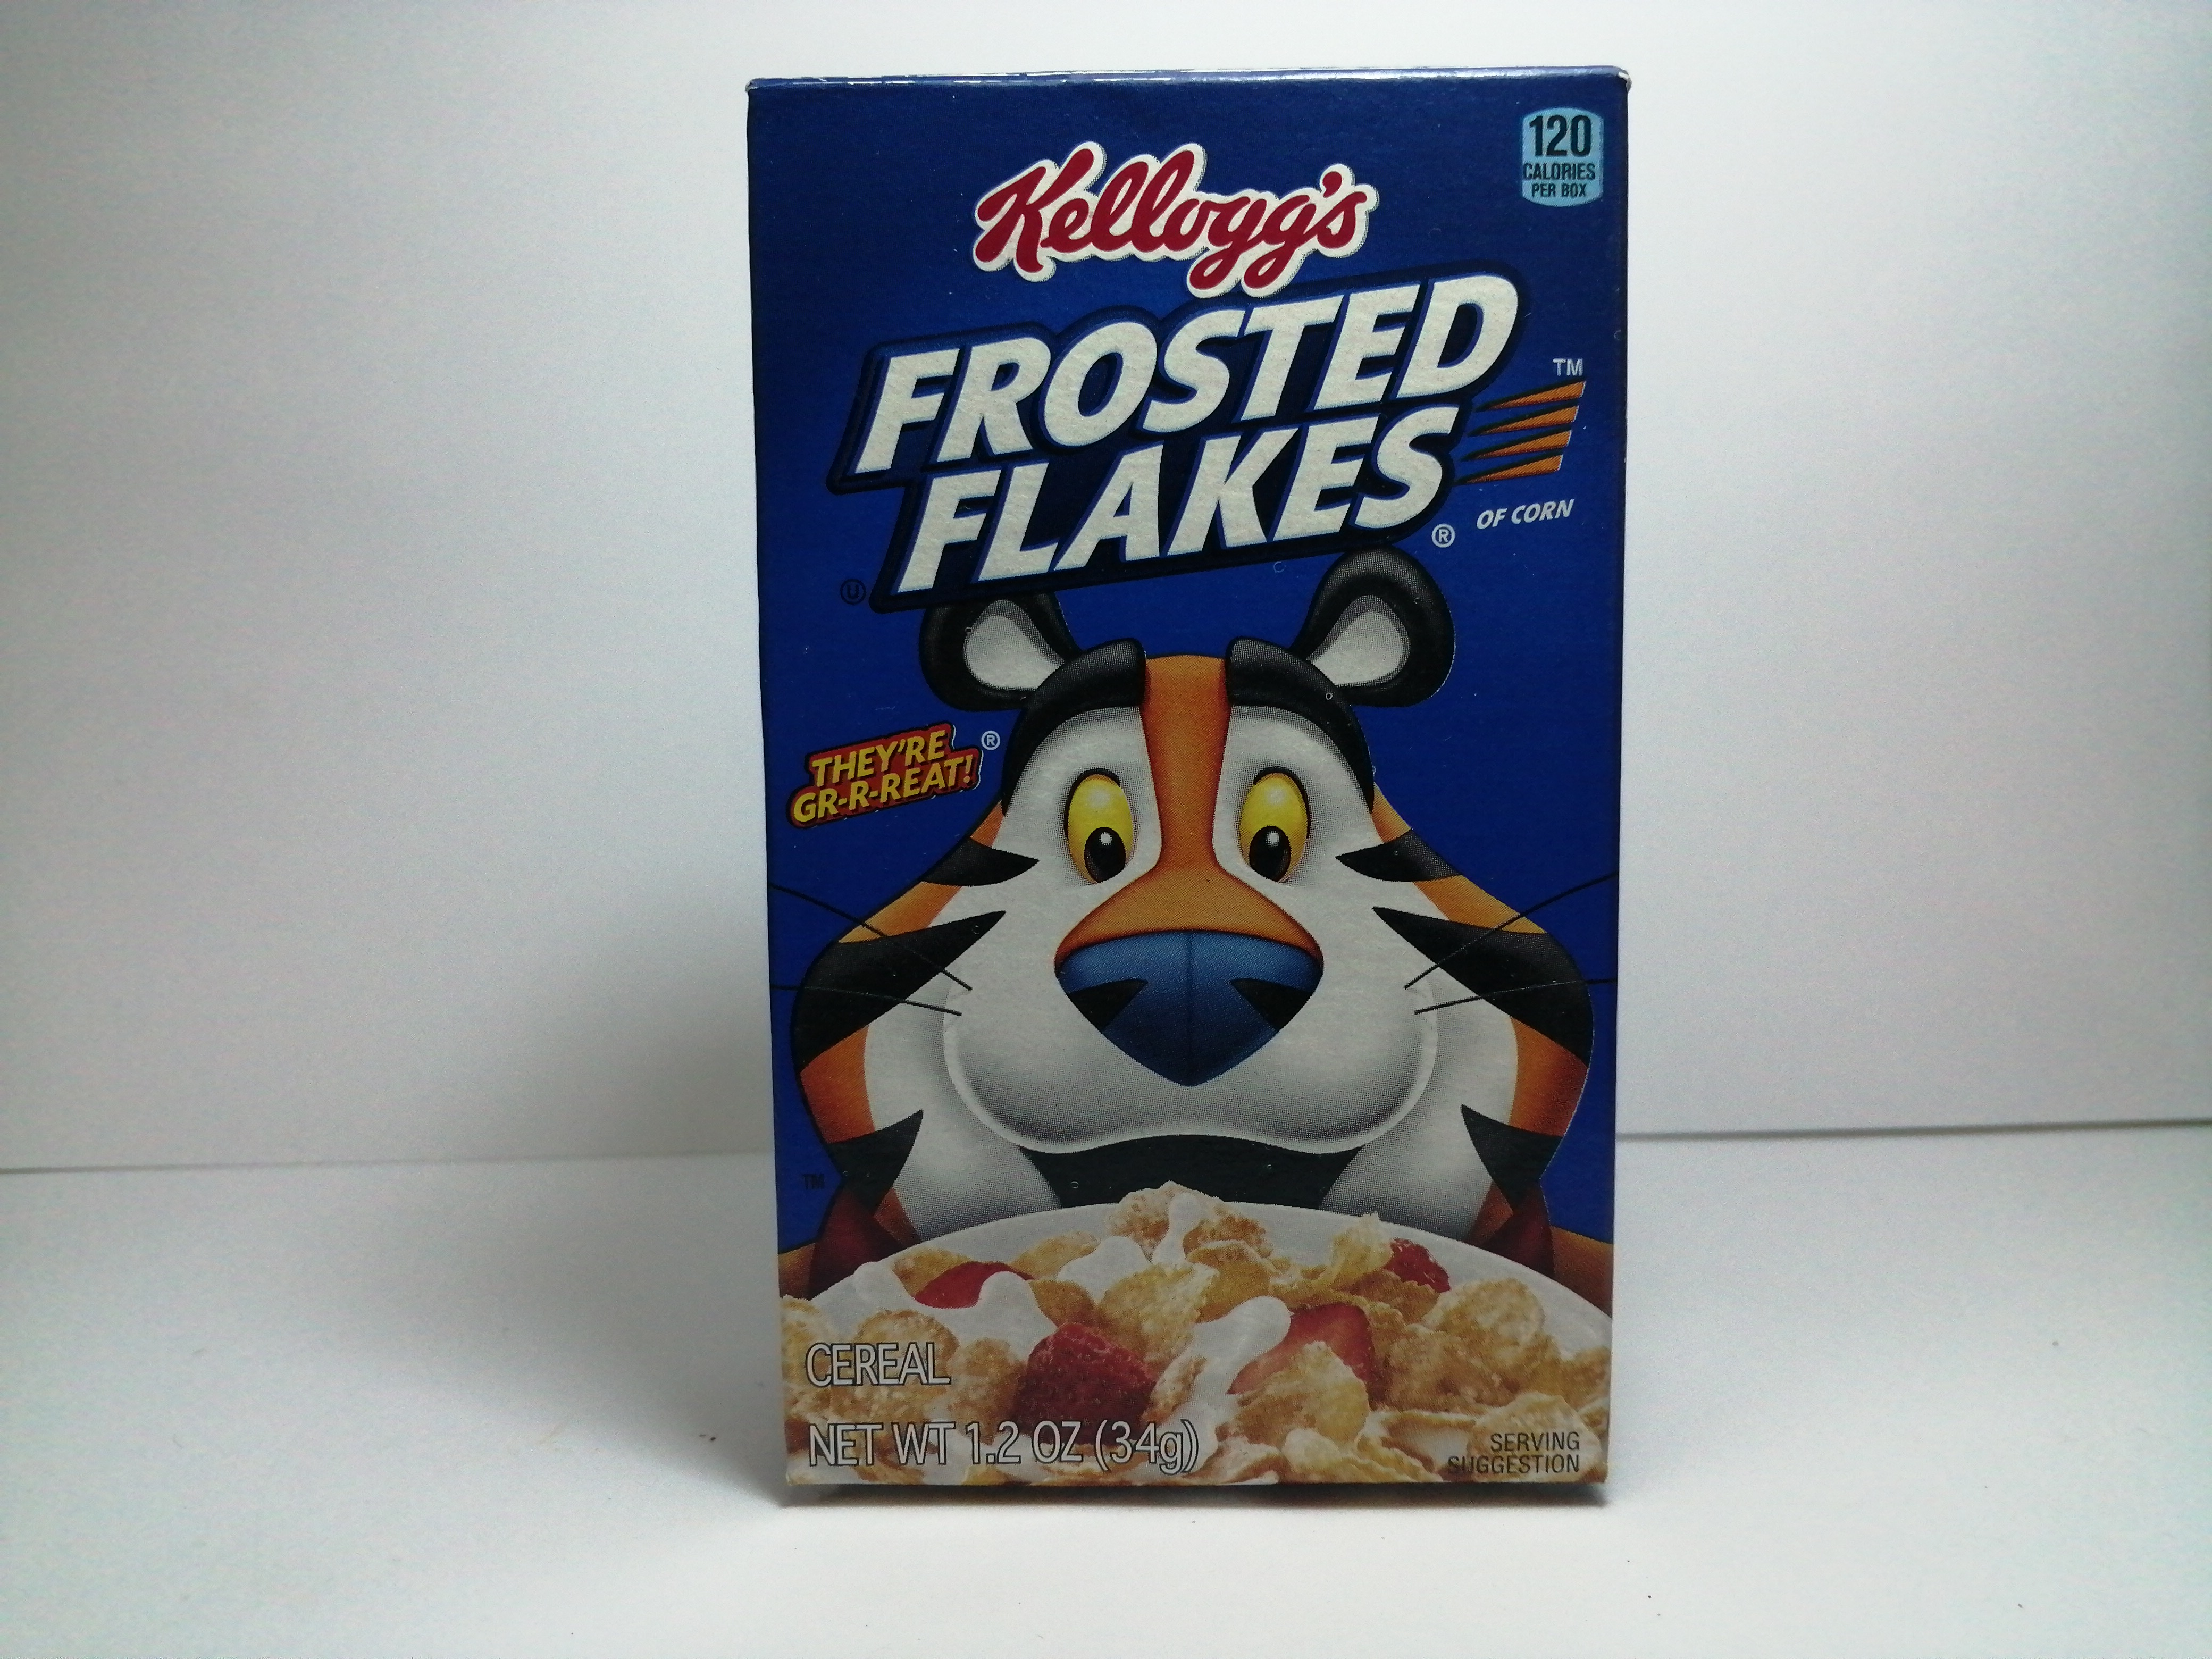cereal azucarado: (711, 37, 1677, 1546)
